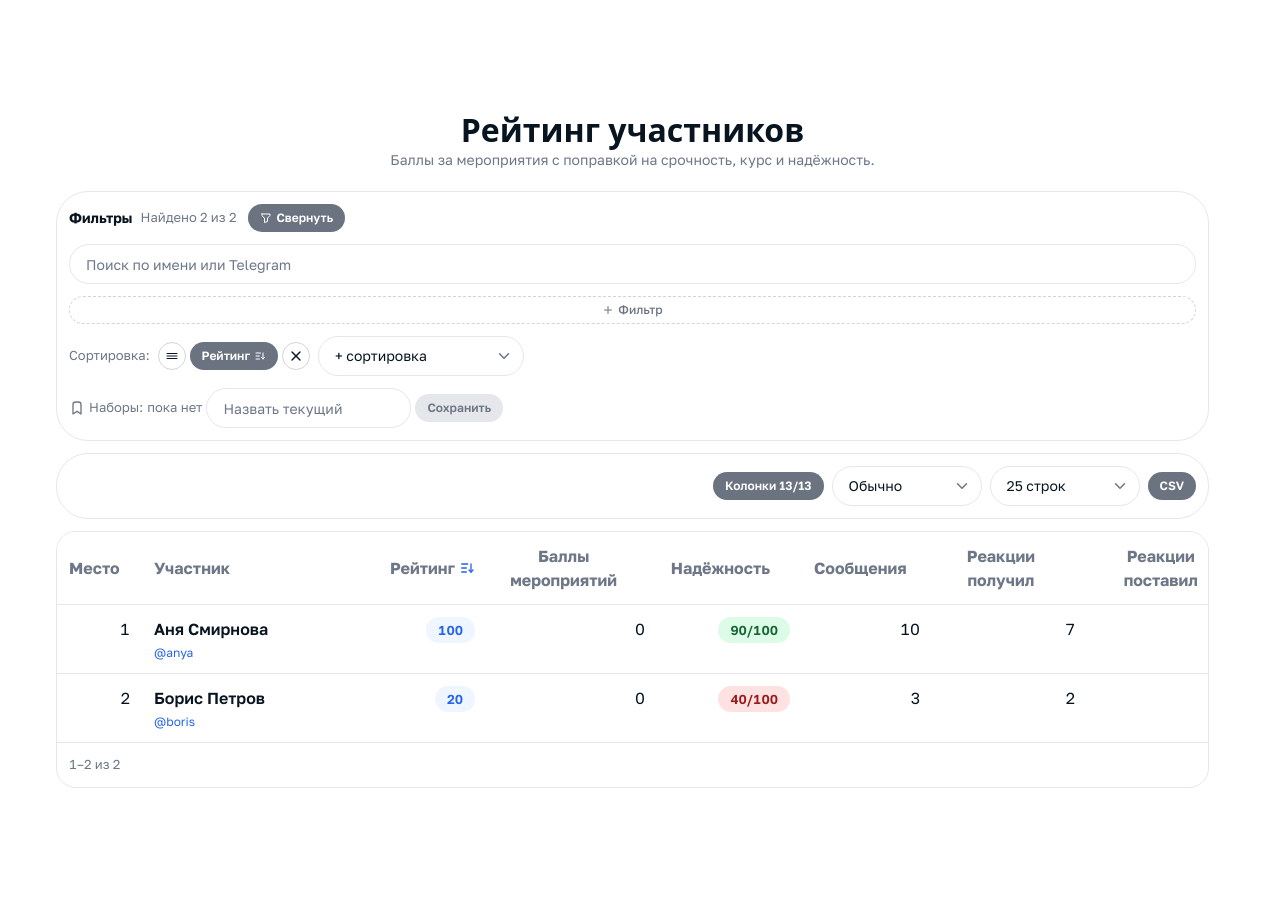
страница рейтинга › показывает чип активного отбора, когда панель свёрнута
This screenshot has width=1280, height=900.
Step 1. Click the button "Фильтр" → point(632, 310), box [69, 296, 1196, 324]
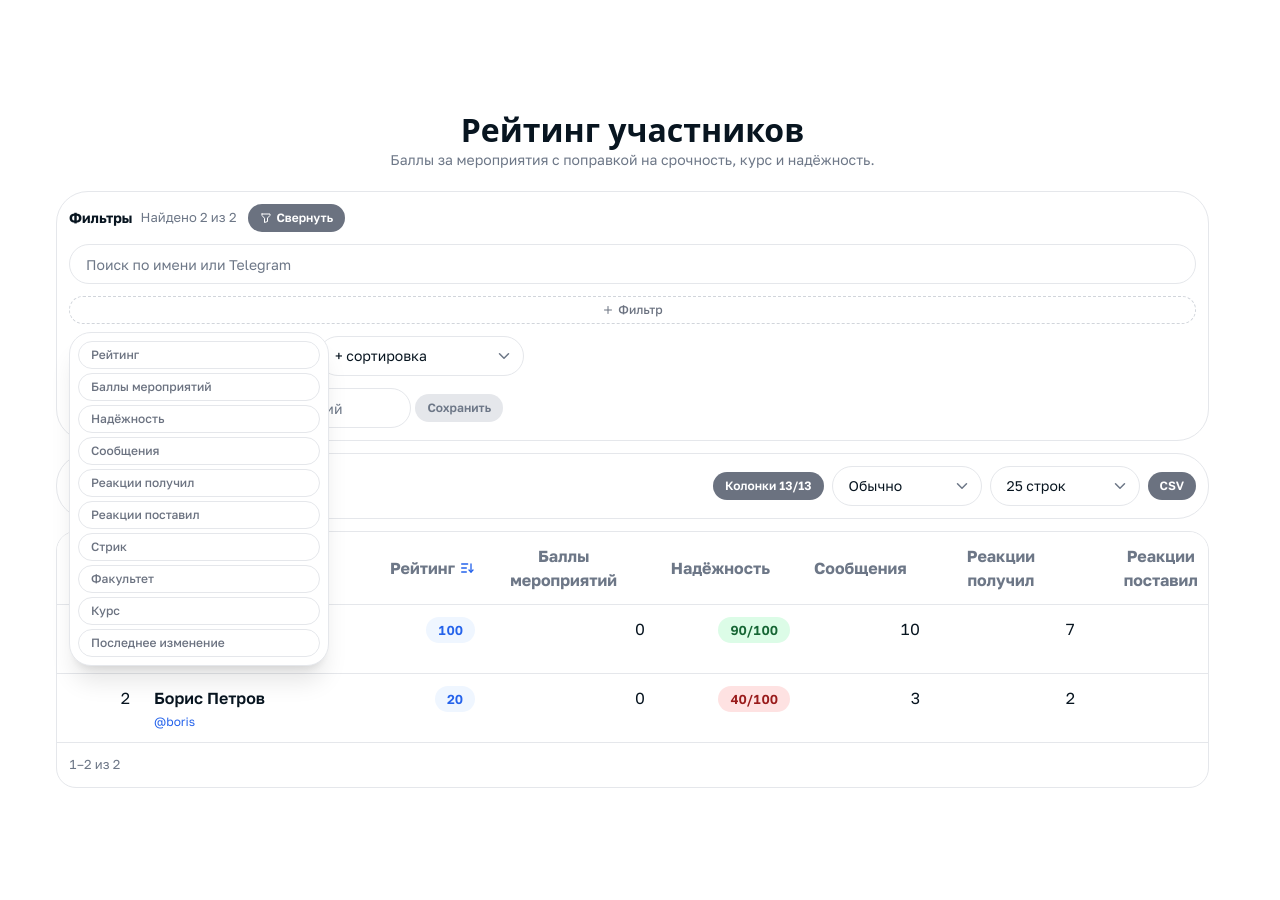
Step 2. Click the menu item "Рейтинг" → point(199, 355), box [78, 341, 320, 369]
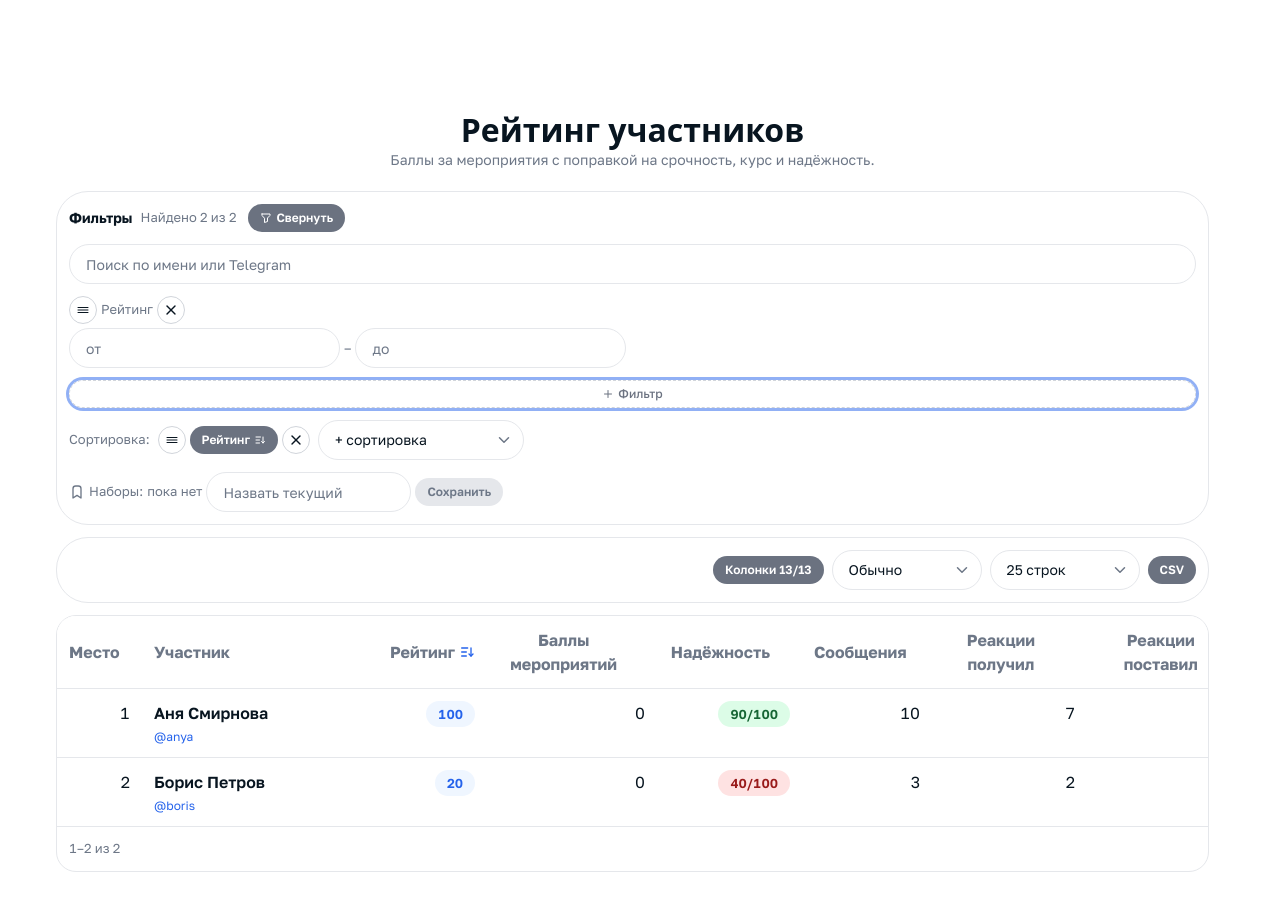
Step 3. Type "50" into the number field named "Рейтинг: от" → point(204, 348), box [69, 328, 340, 368]
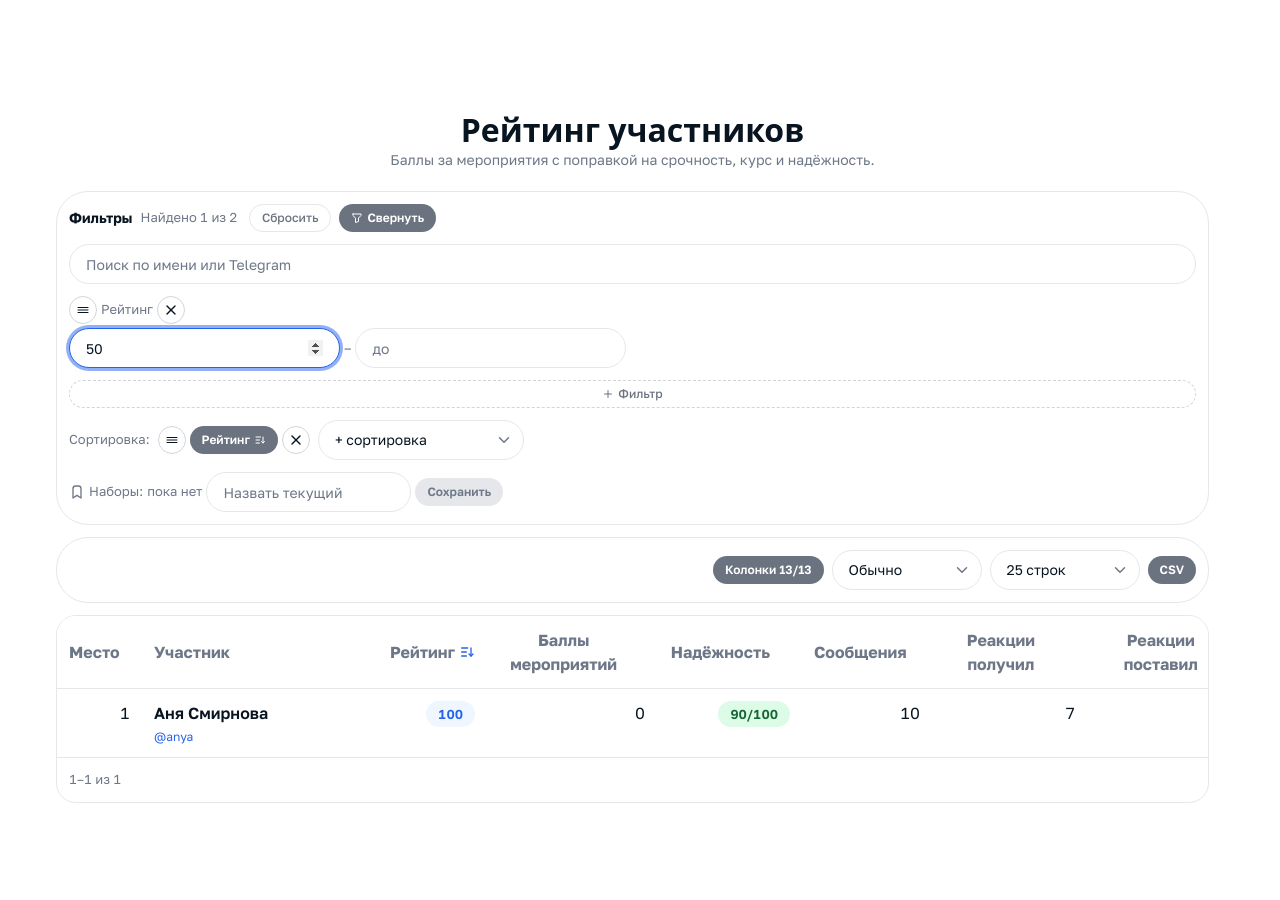
Step 4. Click the button "Свернуть" → point(388, 218), box [339, 204, 436, 232]
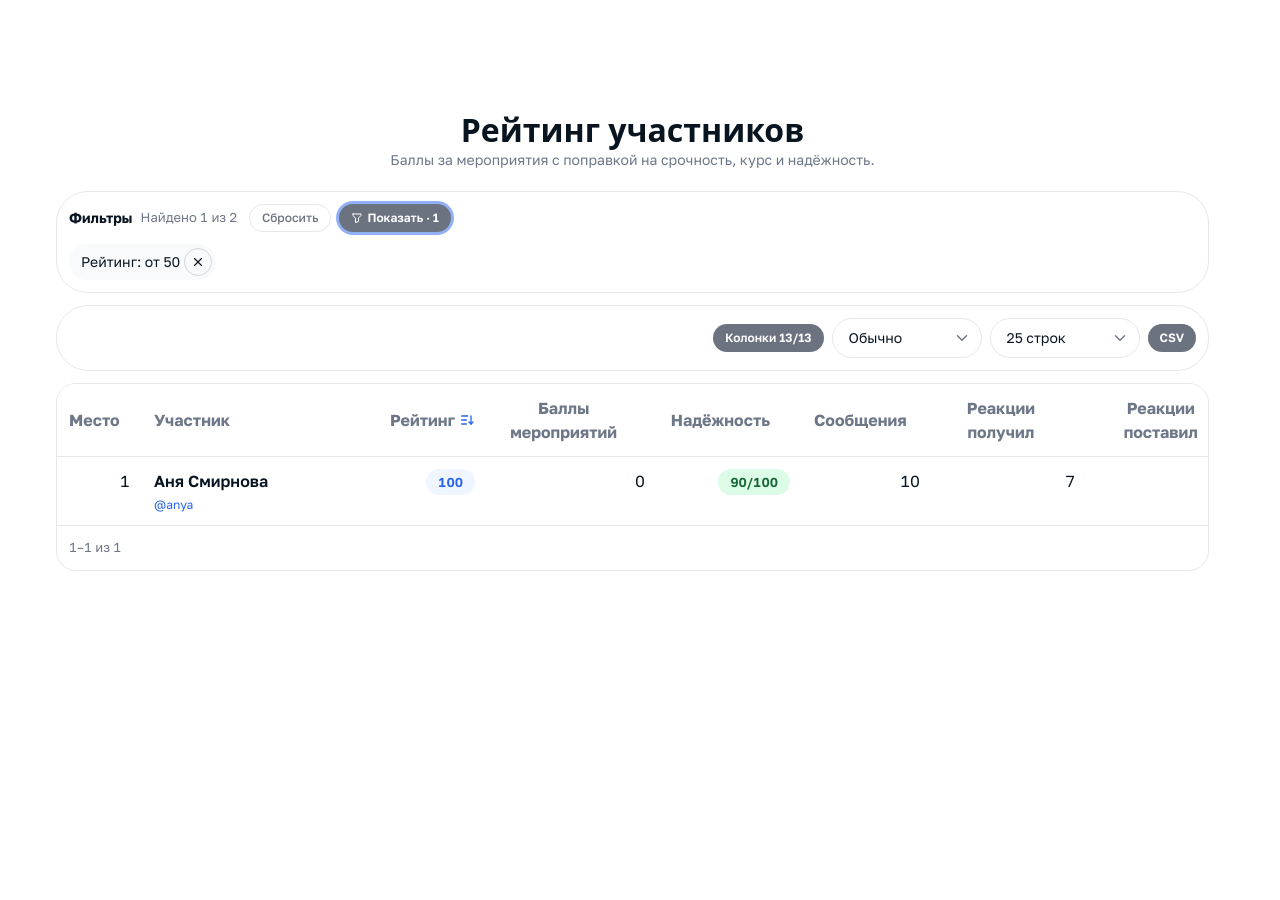
Expected: the text "Рейтинг: от 50" is shown, [81, 252, 180, 272]
